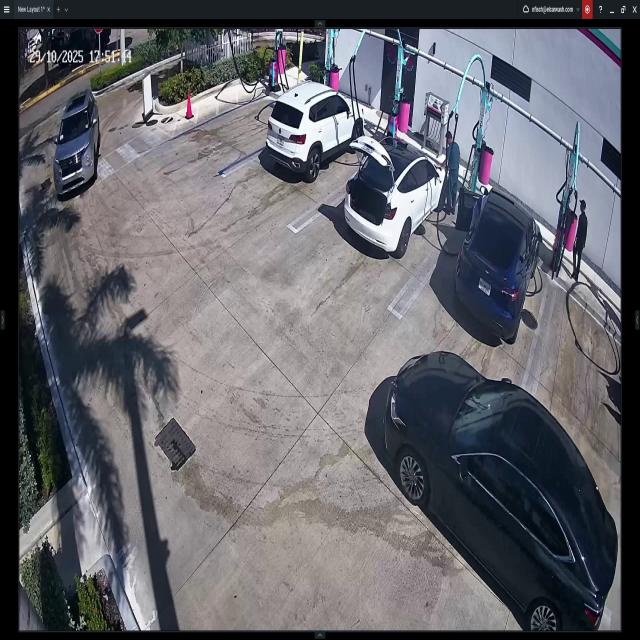Car: (386, 351, 617, 633), (458, 190, 542, 342), (342, 135, 448, 254), (268, 79, 365, 183), (53, 89, 101, 203)
